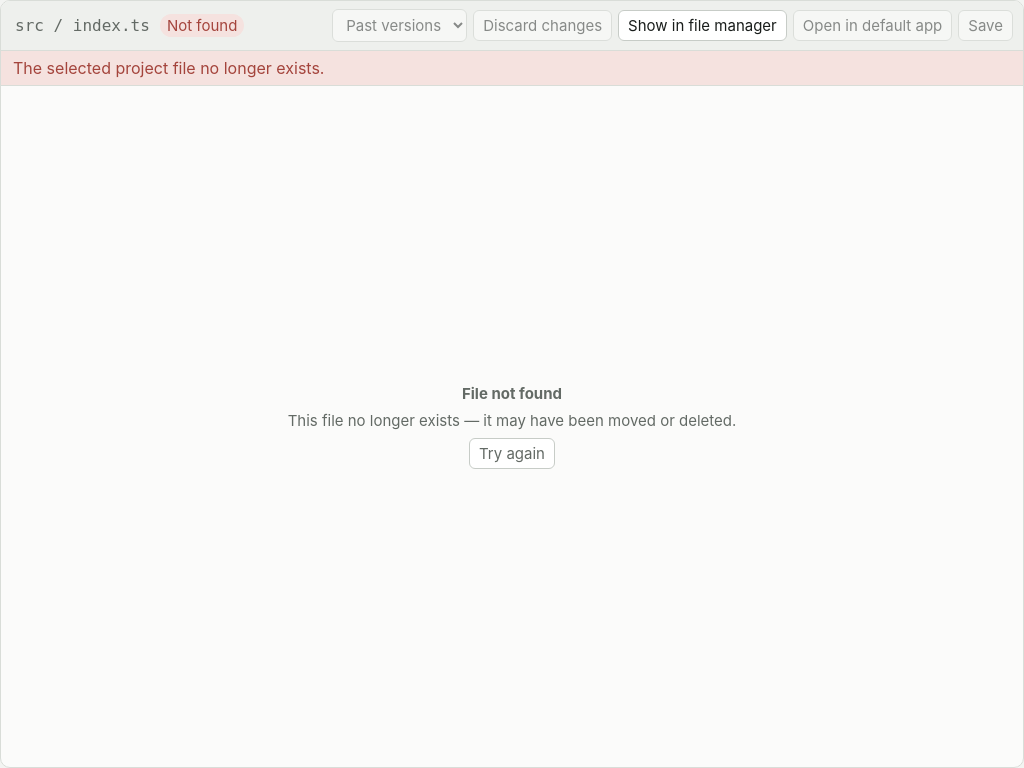
it: FileEditorPanel › renders an honest missing state and retries the read operation
Check: the text "File not found" is shown, box [462,384,562,403]
Check: the text "Not found" is shown, box [160,14,244,37]
Click the button "Try again" at point(512, 454), box [469,438,555,469]
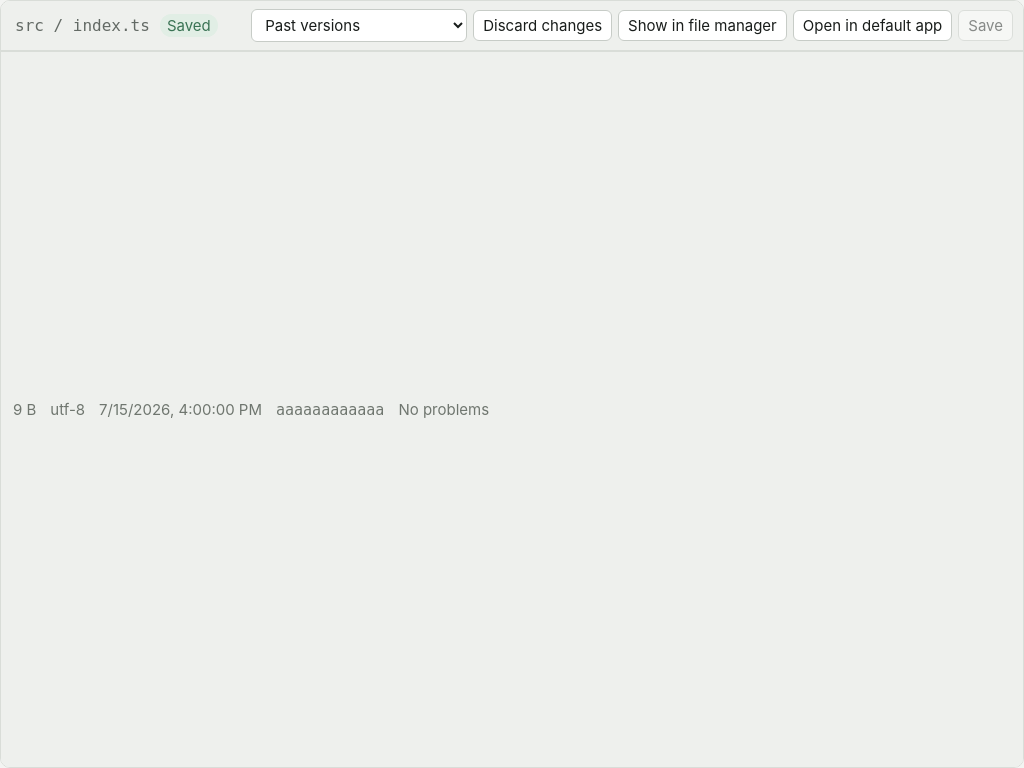
Check: the text "Saved" is shown, box [160,14,218,37]
